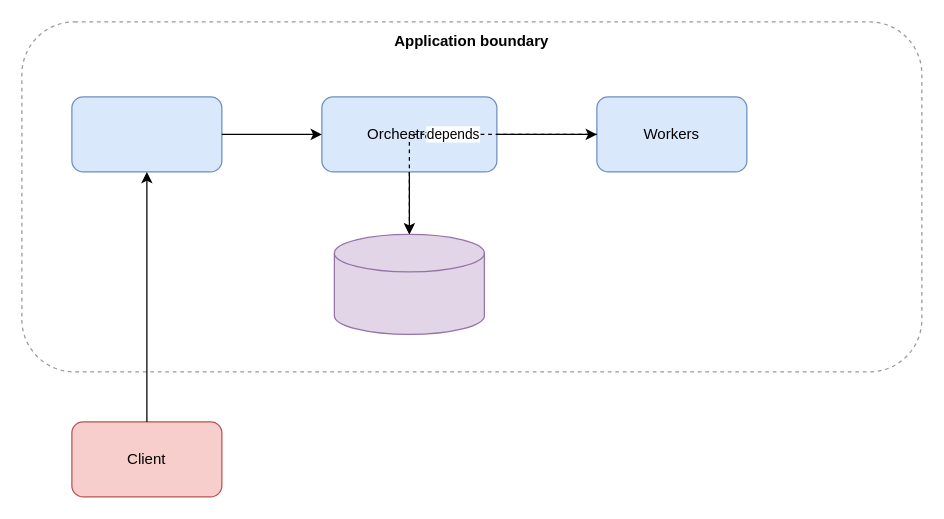
The diagram is 944 pixels wide and 519 high, and some of its shapes have lost their labels. The centre of each missing label's shape, as x and y in pixels:
"Gateway" goes at point 146,134.
"Postgres" goes at point 408,283.
